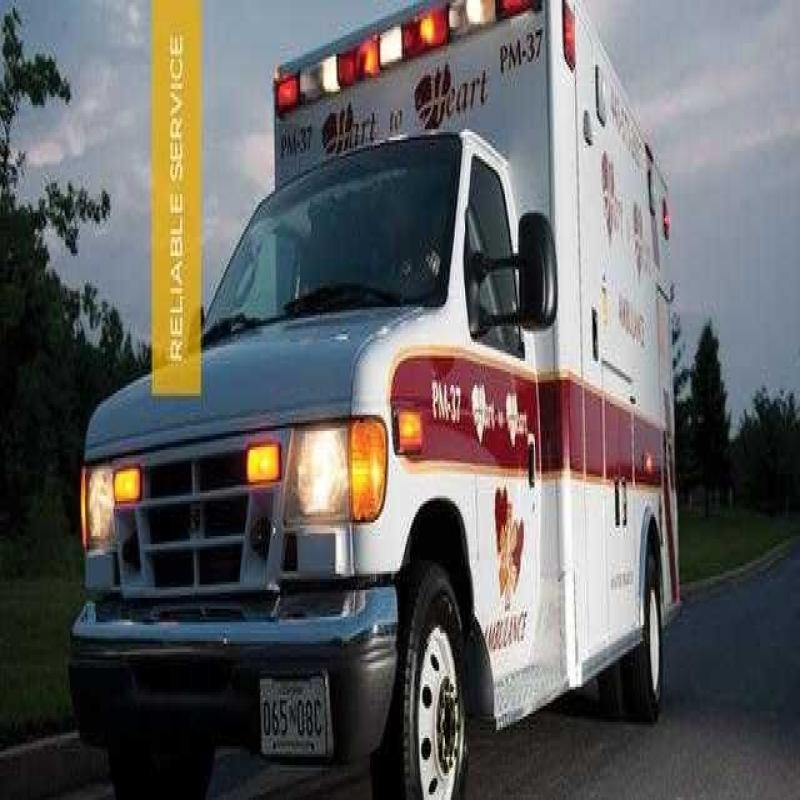AmbulanceSiren: (271, 0, 543, 120)
